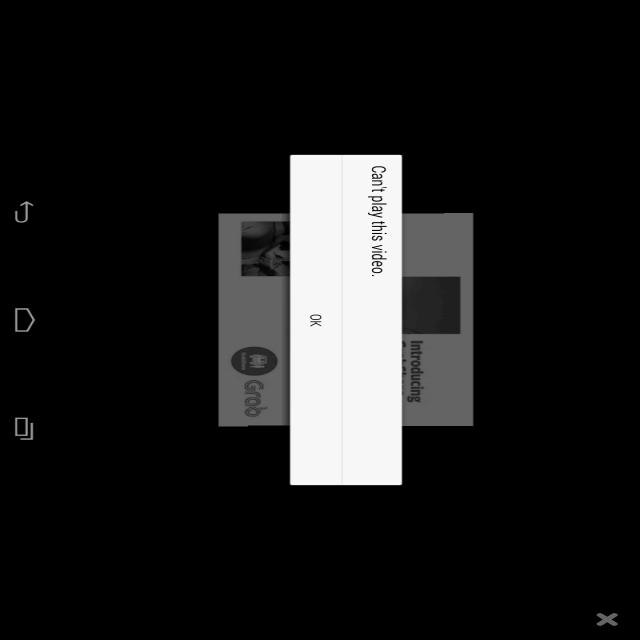TextView: (361, 156, 399, 285), (305, 290, 325, 346)
